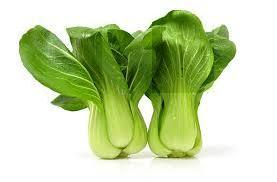Healthy-Pechay: (24, 16, 161, 155), (133, 8, 246, 166)
